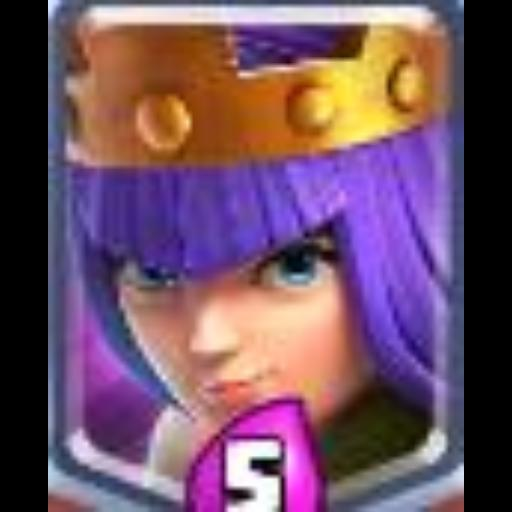archer-queen: (70, 22, 436, 466)
